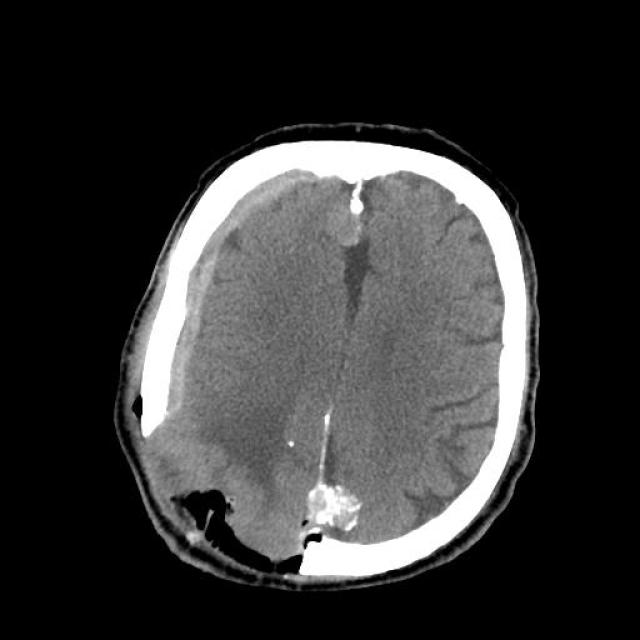Subdural: (130, 164, 310, 418)
